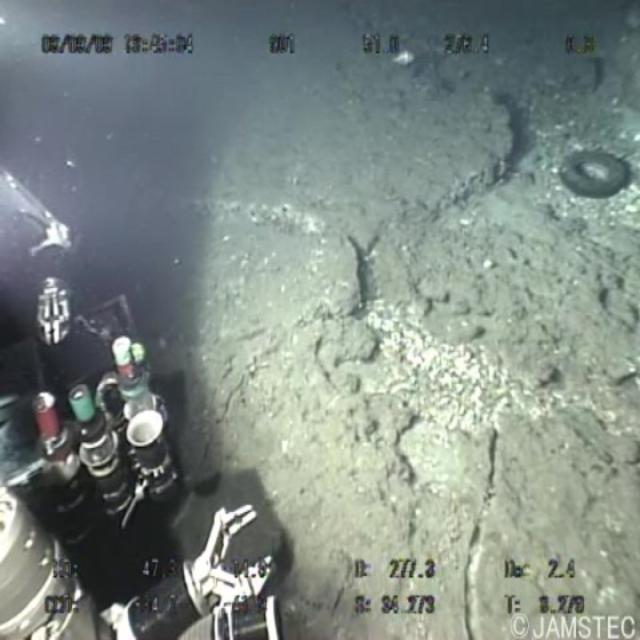Rubber: (552, 136, 640, 236)
